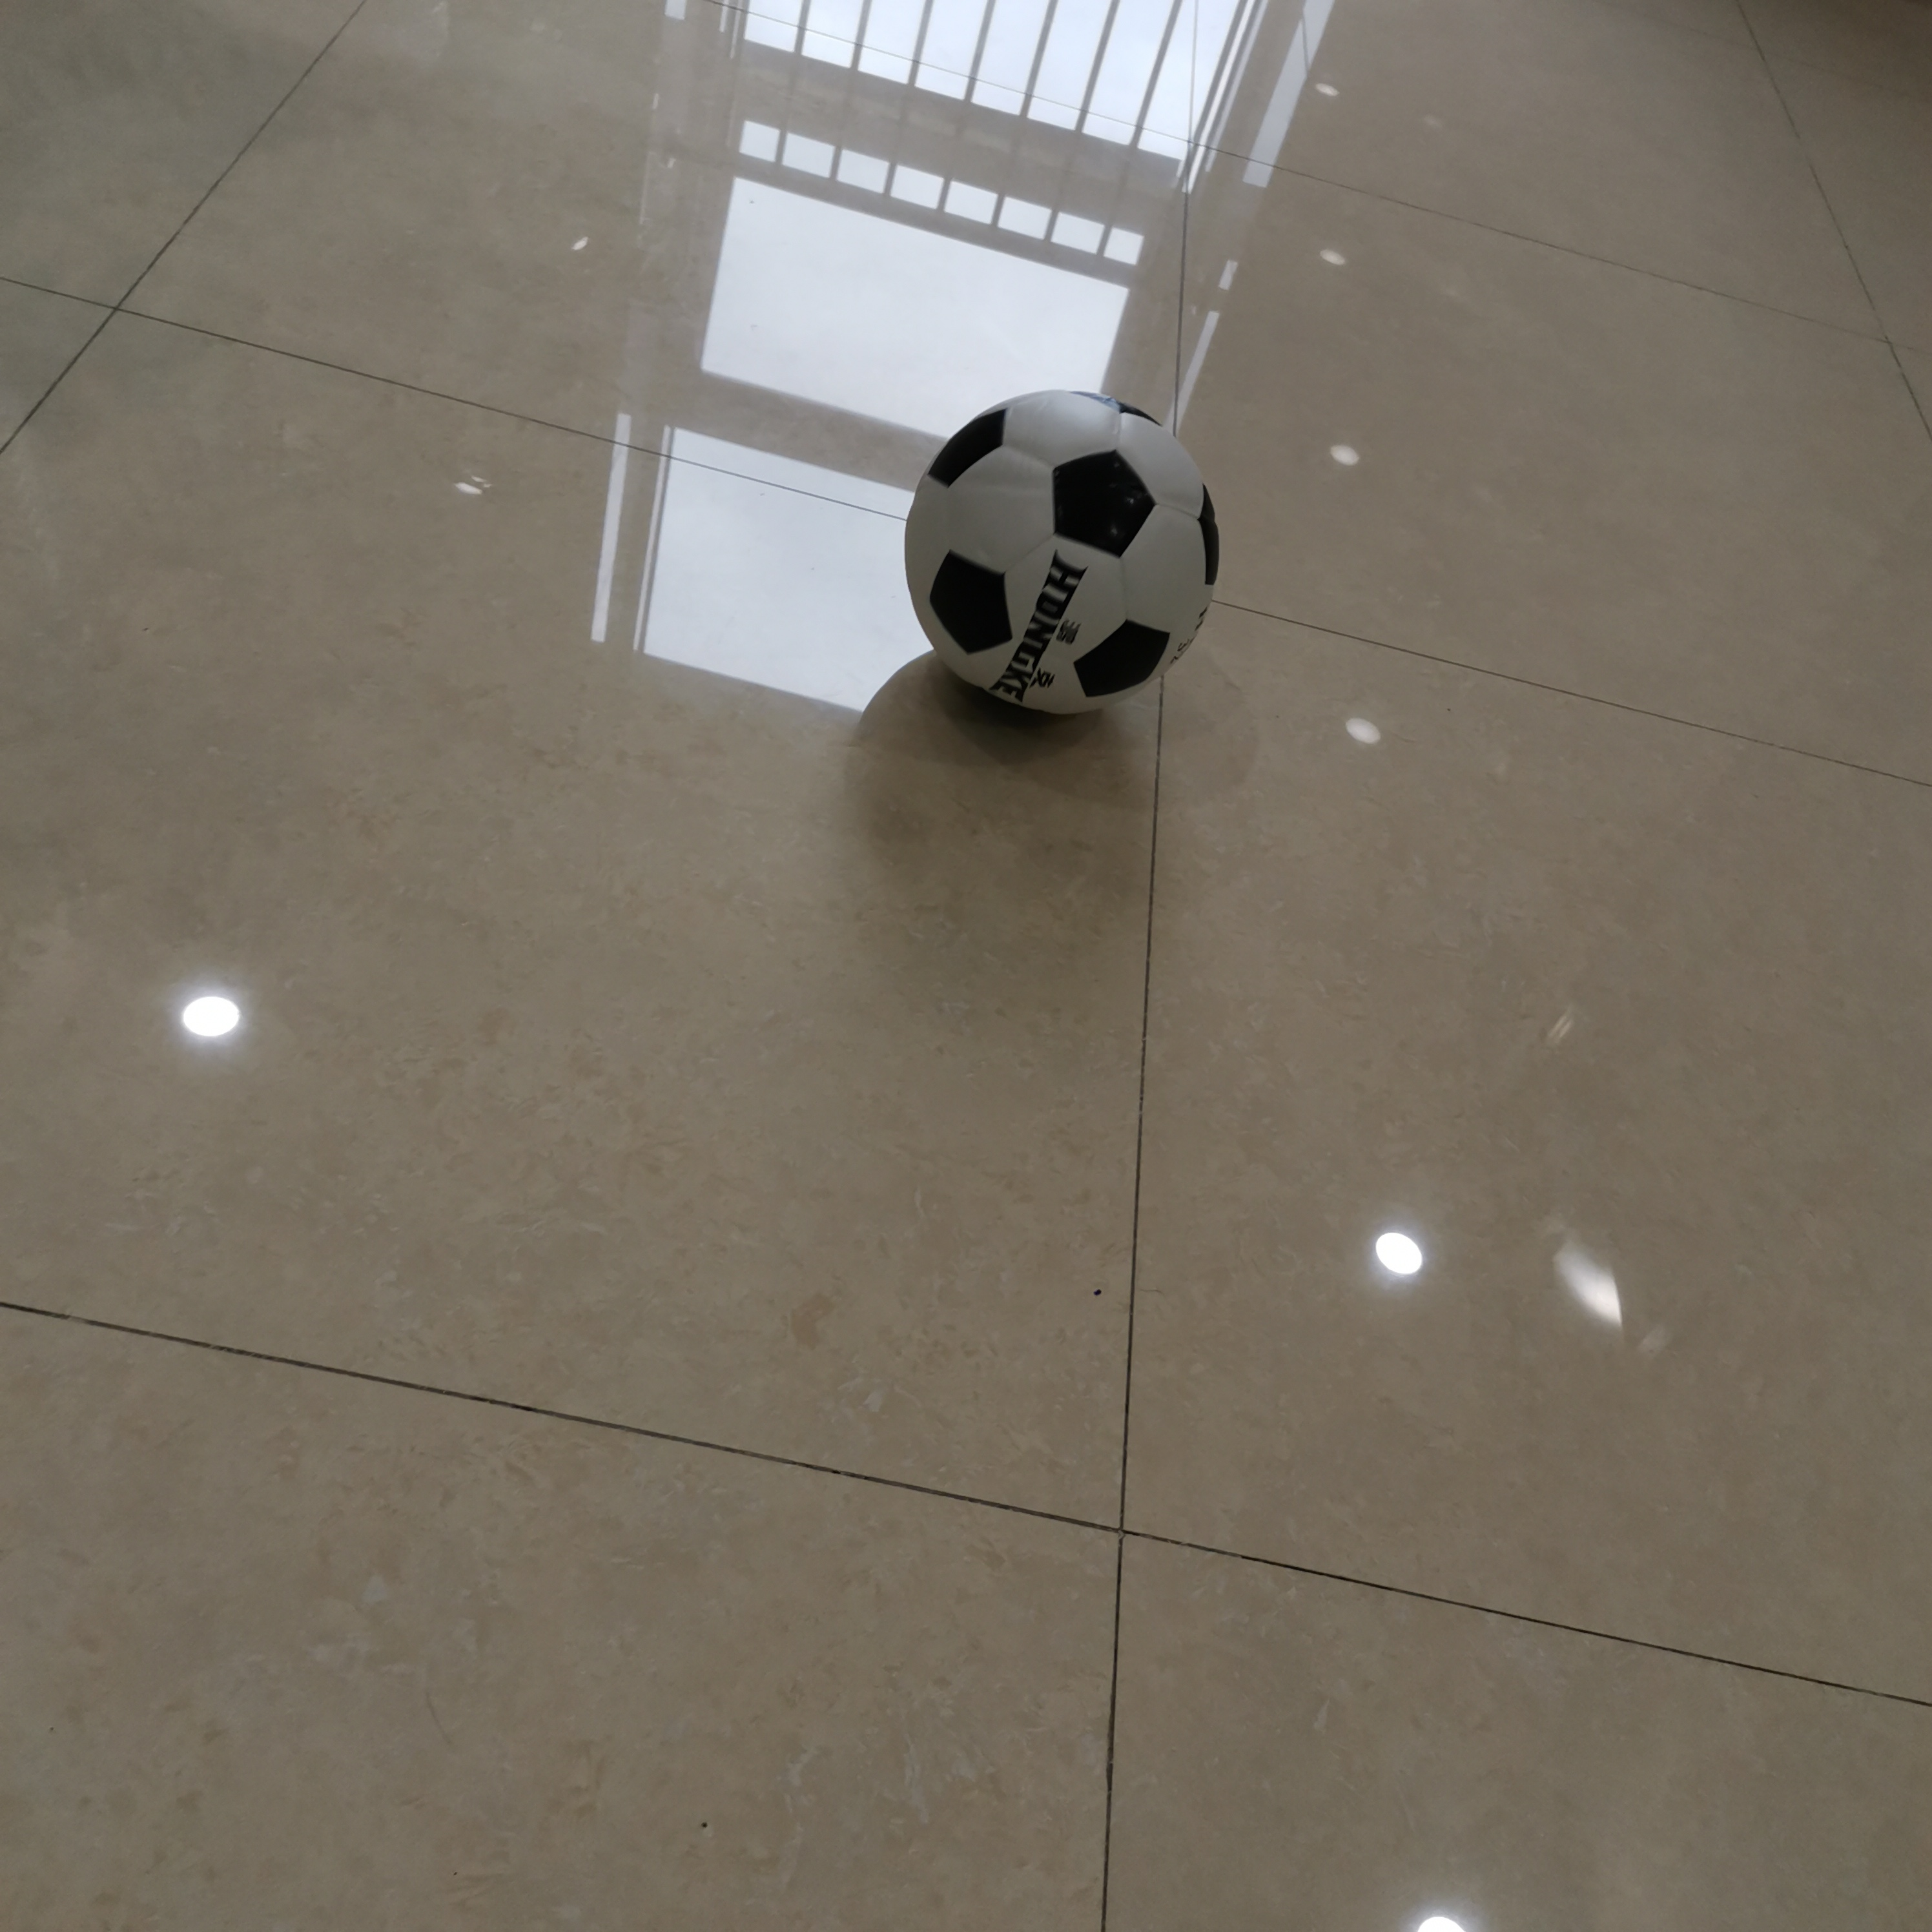football: (904, 393, 1224, 715)
